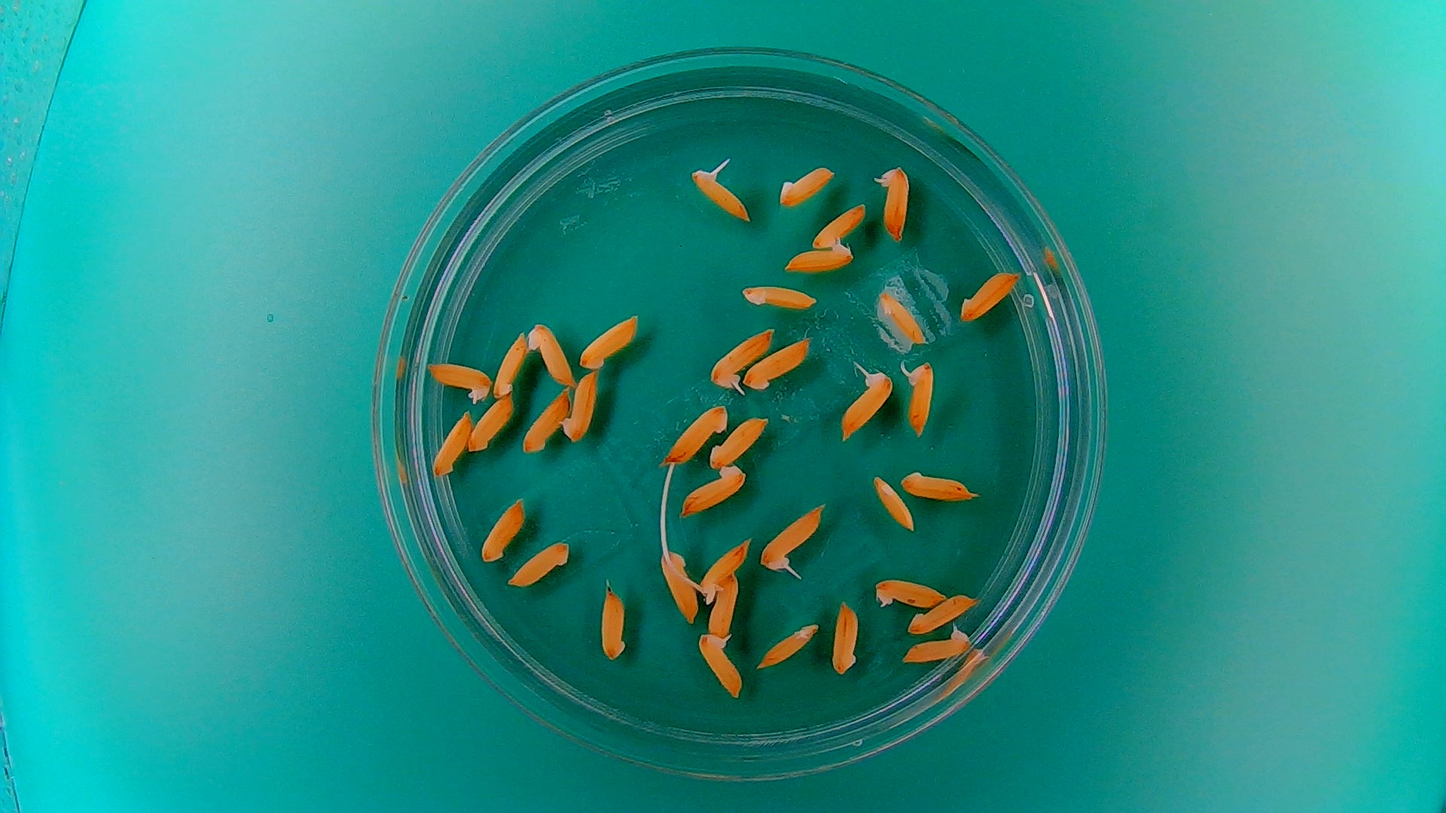no: (660, 400, 730, 464), (742, 333, 812, 392), (678, 463, 749, 519), (576, 310, 642, 370), (955, 267, 1023, 325), (876, 289, 939, 349), (706, 413, 770, 470), (520, 385, 571, 456), (525, 319, 575, 388), (506, 537, 572, 589), (659, 544, 700, 626), (477, 495, 525, 565), (906, 590, 980, 635), (755, 620, 820, 671), (465, 391, 516, 454), (560, 367, 602, 443), (424, 358, 493, 404), (429, 407, 472, 478), (897, 465, 978, 502), (869, 472, 916, 534), (490, 327, 530, 398), (776, 163, 837, 209), (810, 200, 868, 248), (596, 585, 630, 665), (737, 279, 818, 312), (828, 596, 861, 676), (781, 238, 856, 273), (706, 571, 741, 638)
yes: (758, 501, 827, 576), (706, 324, 775, 392), (836, 362, 895, 441), (689, 154, 753, 223), (692, 537, 753, 604), (696, 630, 744, 701), (871, 162, 911, 242), (900, 358, 938, 439), (899, 625, 975, 665), (871, 574, 948, 610)
